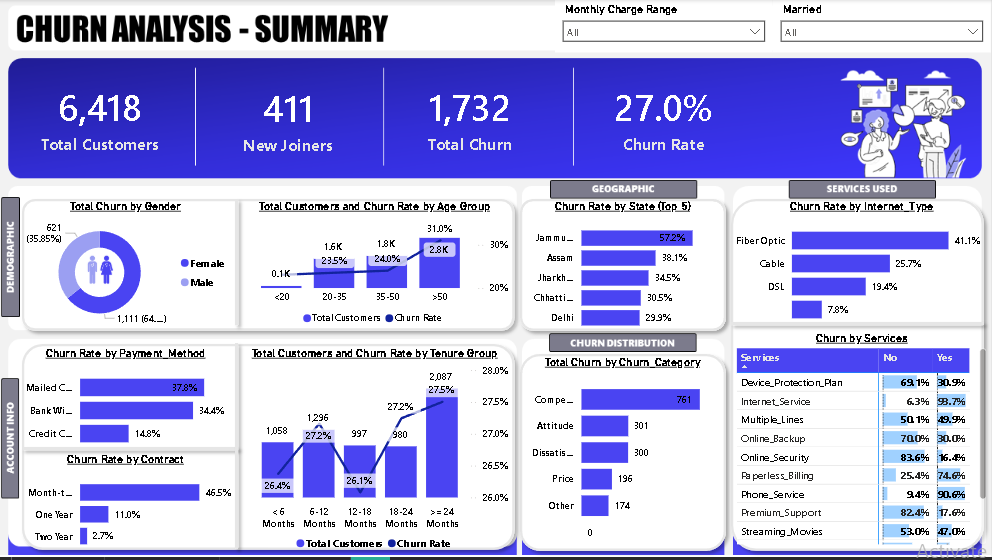

Layout of this report page (visuals, bound fields, positions):
{"tool":"powerbi","page":{"name":"Summary","canvas":[1280,720],"ordinal":0},"visuals":[{"type":"shape","box":[935.6,248.6,344.4,472],"z":0},{"type":"shape","box":[663.2,448.5,283.8,272.1],"z":1000},{"type":"shape","box":[663.5,248.6,283.9,188.1],"z":2000},{"type":"shape","box":[20.2,248.7,653.5,188],"z":3000},{"type":"shape","box":[20.6,436.3,653.8,283.5],"z":4000},{"type":"cardVisual","fields":{"Data":["Measures_Table.Total Customers"]},"box":[13.4,84,235.2,139.4],"z":5000},{"type":"cardVisual","fields":{"Data":["Measures_Table.New Joiners"]},"box":[255.3,85.7,235.2,139.4],"z":6000},{"type":"cardVisual","fields":{"Data":["Measures_Table.Total Churn"]},"box":[490.5,84,235.2,139.4],"z":7000},{"type":"cardVisual","fields":{"Data":["Measures_Table.Churn Rate"]},"box":[740.8,84,235,139],"z":8000},{"type":"lineStackedColumnComboChart","fields":{"Category":["Mapping_Age_Group.Age Group"],"Y":["Measures_Table.Total Customers"],"Y2":["Measures_Table.Churn Rate"]},"box":[305.9,258.8,357.4,170.6],"z":9000},{"type":"donutChart","fields":{"Y":["Measures_Table.Total Churn"],"Category":["Customer_Data.Gender"]},"box":[20.6,258.8,285.3,170.6],"z":10000},{"type":"clusteredBarChart","fields":{"Category":["Customer_Data.Payment_Method"],"Y":["Measures_Table.Churn Rate"]},"box":[20.6,448.5,285.3,141.2],"z":11000},{"type":"clusteredBarChart","fields":{"Y":["Measures_Table.Churn Rate"],"Category":["Customer_Data.Contract"]},"box":[25.8,585.8,285.2,134.2],"z":12000},{"type":"lineStackedColumnComboChart","fields":{"Y":["Measures_Table.Total Customers"],"Y2":["Measures_Table.Churn Rate"],"Category":["Mapping_TenureGroup.Tenure Group"]},"box":[307.1,447.7,357.4,272.3],"z":13000},{"type":"clusteredBarChart","title":"Churn Rate by State (Top 5)","fields":{"Category":["Customer_Data.State"],"Y":["Measures_Table.Churn Rate"]},"box":[673.5,258.8,261.8,177.9],"z":14000},{"type":"image","box":[94.1,325,72.1,47.1],"z":15000},{"type":"clusteredBarChart","fields":{"Y":["Measures_Table.Total Churn"],"Category":["Customer_Data.Churn_Category"]},"box":[673.5,460.3,261.8,260.3],"z":16000},{"type":"clusteredBarChart","fields":{"Y":["Measures_Table.Churn Rate"],"Category":["Customer_Data.Internet_Type"]},"box":[947.1,258.8,332.4,170.6],"z":17000},{"type":"pivotTable","title":"Churn by Services","fields":{"Rows":["Services_Table.Services"],"Columns":["Services_Table.Status"],"Values":["Sum(Services_Table.Churn Status)"]},"box":[947.1,429.4,332.4,279.4],"z":18000},{"type":"shape","box":[20.6,569.1,297.1,22.1],"z":19000},{"type":"shape","box":[935.3,407.4,344.1,22.1],"z":20000},{"type":"shape","box":[295.6,248.5,22.1,180.9],"z":21000},{"type":"shape","box":[305.8,436.1,21.9,283.9],"z":22000},{"type":"slicer","fields":{"Values":["Customer_Data.Monthly Charge Status"]},"box":[717.6,0,280.9,69.1],"z":23000},{"type":"slicer","fields":{"Values":["Customer_Data.Married"]},"box":[998.5,0,280.9,69.1],"z":24000}]}

Visuals, with their boxes in screenshot pixels (x1, y1, x2, y2), scaled from the page's 1280x720 canvas onto the 992x560 screenshot:
shape: 725,193,991,559
shape: 514,349,734,559
shape: 514,193,734,340
shape: 16,193,522,340
shape: 16,339,523,559
cardVisual - Measures_Table.Total Customers: 10,65,193,174
cardVisual - Measures_Table.New Joiners: 198,67,380,175
cardVisual - Measures_Table.Total Churn: 380,65,562,174
cardVisual - Measures_Table.Churn Rate: 574,65,756,173
lineStackedColumnComboChart - Mapping_Age_Group.Age Group x Measures_Table.Total Customers: 237,201,514,334
donutChart - Measures_Table.Total Churn x Customer_Data.Gender: 16,201,237,334
clusteredBarChart - Customer_Data.Payment_Method x Measures_Table.Churn Rate: 16,349,237,459
clusteredBarChart - Measures_Table.Churn Rate x Customer_Data.Contract: 20,456,241,559
lineStackedColumnComboChart - Measures_Table.Total Customers x Measures_Table.Churn Rate: 238,348,515,559
"Churn Rate by State (Top 5)" clusteredBarChart: 522,201,725,340
image: 73,253,129,289
clusteredBarChart - Measures_Table.Total Churn x Customer_Data.Churn_Category: 522,358,725,559
clusteredBarChart - Measures_Table.Churn Rate x Customer_Data.Internet_Type: 734,201,991,334
"Churn by Services" pivotTable: 734,334,991,551
shape: 16,443,246,460
shape: 725,317,991,334
shape: 229,193,246,334
shape: 237,339,254,559
slicer - Customer_Data.Monthly Charge Status: 556,0,774,54
slicer - Customer_Data.Married: 774,0,991,54
